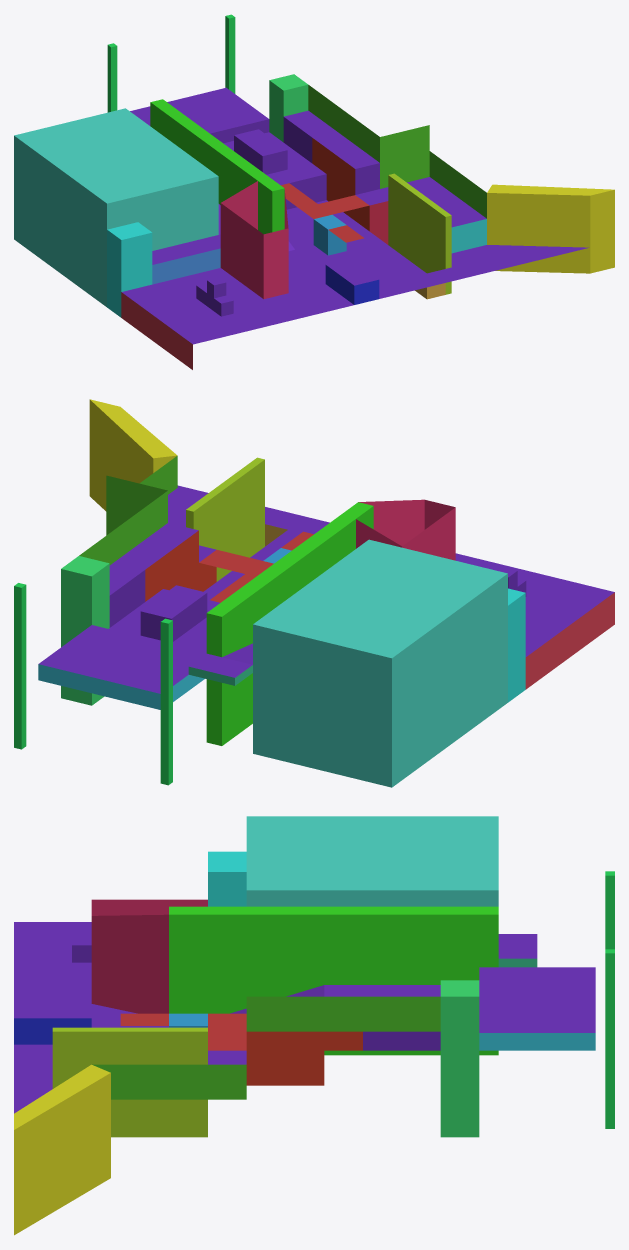
File: TestMap3.fbx
3 views of the same model, one above another, from view 1: azimuth 30°, elevation 25°; view 2: azimuth 150°, elevation 25°; view 3: azimuth 270°, elevation 25° (orthographic). The views are drawn at different scales.
Parts seen in each view (by area): view 1: Walls, I_Mid, I_Spawn, I_Smallparts, Grates, Detail, CrateSides, Support; view 2: Walls, I_Spawn, I_Mid, I_Smallparts, Detail, SpawnEdge, Grates; view 3: Walls, I_Spawn, I_Mid, I_Smallparts, Detail, Grates, SpawnEdge, CrateSides, Support.
Part boxes in pixels (x1=…): Walls: x1=14, y1=74, x2=614, y2=369; I_Mid: x1=122, y1=200, x2=588, y2=344; I_Spawn: x1=130, y1=87, x2=379, y2=209; I_Smallparts: x1=145, y1=121, x2=486, y2=316; Grates: x1=281, y1=183, x2=369, y2=242; Detail: x1=107, y1=14, x2=235, y2=112; CrateSides: x1=325, y1=265, x2=379, y2=304; Support: x1=313, y1=214, x2=346, y2=255; Walls: x1=61, y1=399, x2=614, y2=787; I_Spawn: x1=39, y1=523, x2=219, y2=693; I_Mid: x1=177, y1=485, x2=614, y2=656; I_Smallparts: x1=140, y1=488, x2=526, y2=677; Detail: x1=14, y1=583, x2=172, y2=785; SpawnEdge: x1=38, y1=664, x2=204, y2=709; Grates: x1=199, y1=531, x2=313, y2=602; Walls: x1=14, y1=816, x2=537, y2=1235; I_Spawn: x1=324, y1=967, x2=595, y2=1050; I_Mid: x1=14, y1=922, x2=168, y2=1113; I_Smallparts: x1=14, y1=934, x2=537, y2=1064; Detail: x1=605, y1=871, x2=614, y2=1128; Grates: x1=120, y1=1013, x2=246, y2=1050; SpawnEdge: x1=479, y1=1033, x2=595, y2=1050; CrateSides: x1=14, y1=1018, x2=91, y2=1044; Support: x1=169, y1=1013, x2=207, y2=1027.
Size of the model in its own units: 1700 by 500 by 1550.
